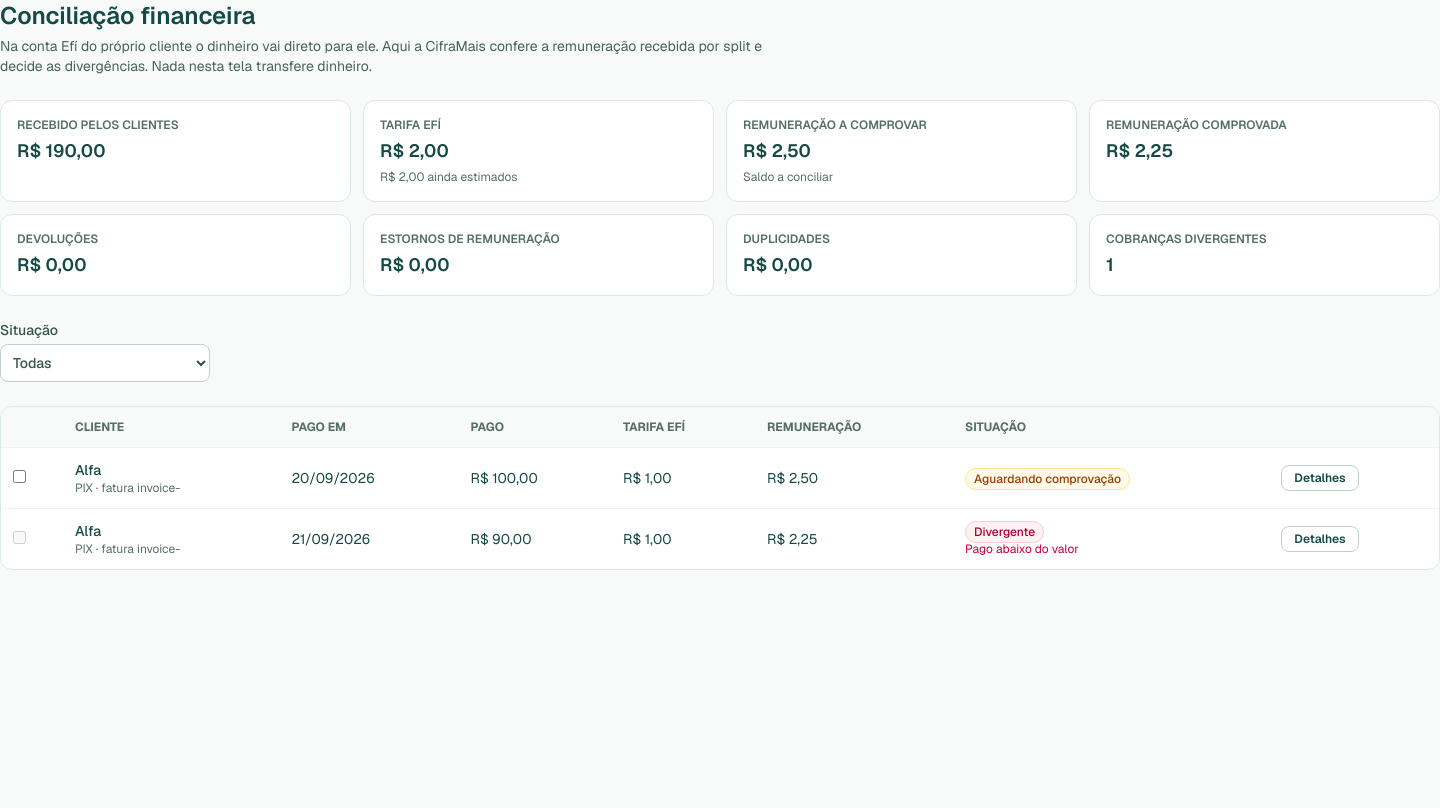
Test case: decides a divergence with the fields that decision requires
Click the button "Detalhes" in the row of "21/09/2026" at (1320, 539), box [1281,526,1359,552]
(page scrolled)
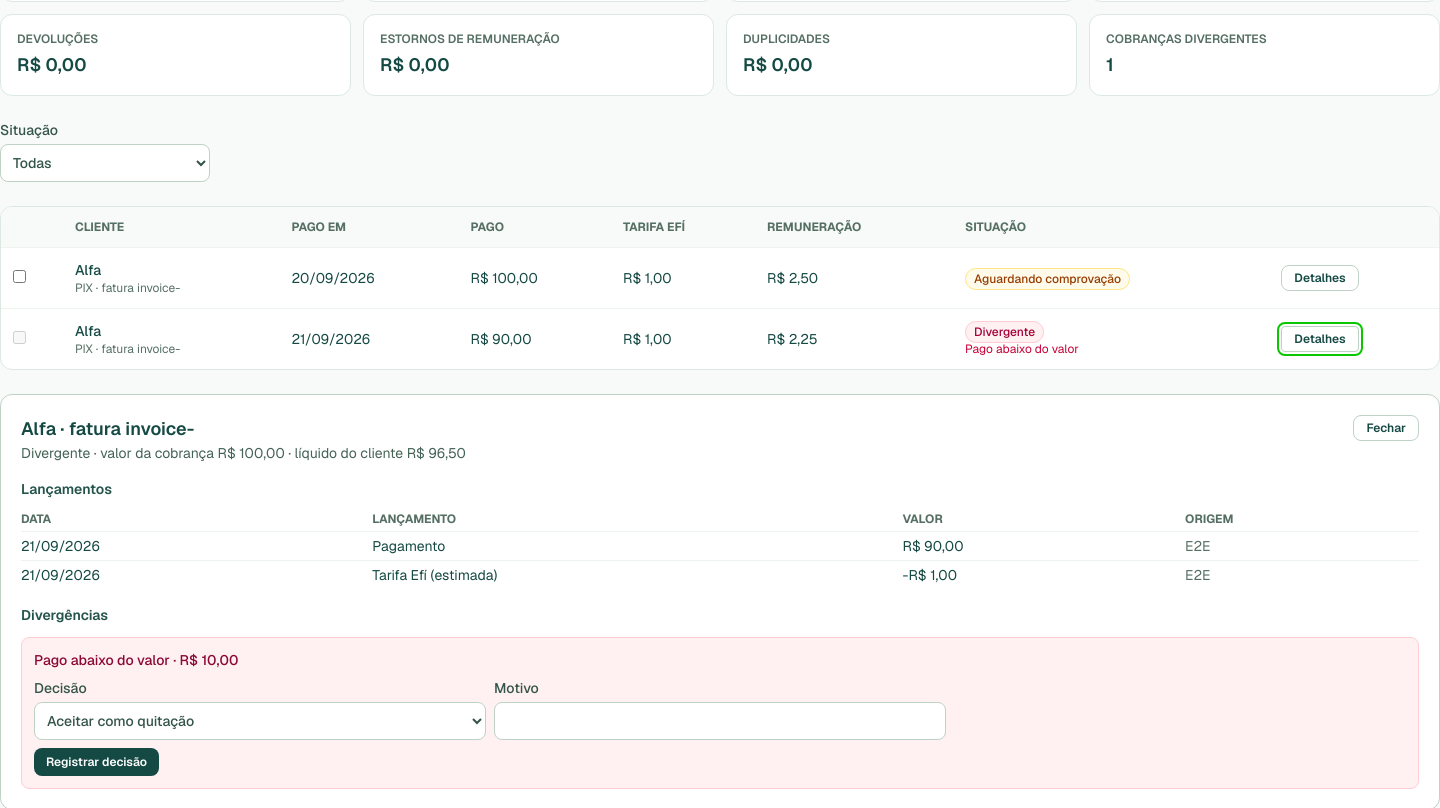
Select "Gerar fatura complementar do saldo" in the dropdown labelled "Decisão" at (260, 721), box [34,702,486,740]
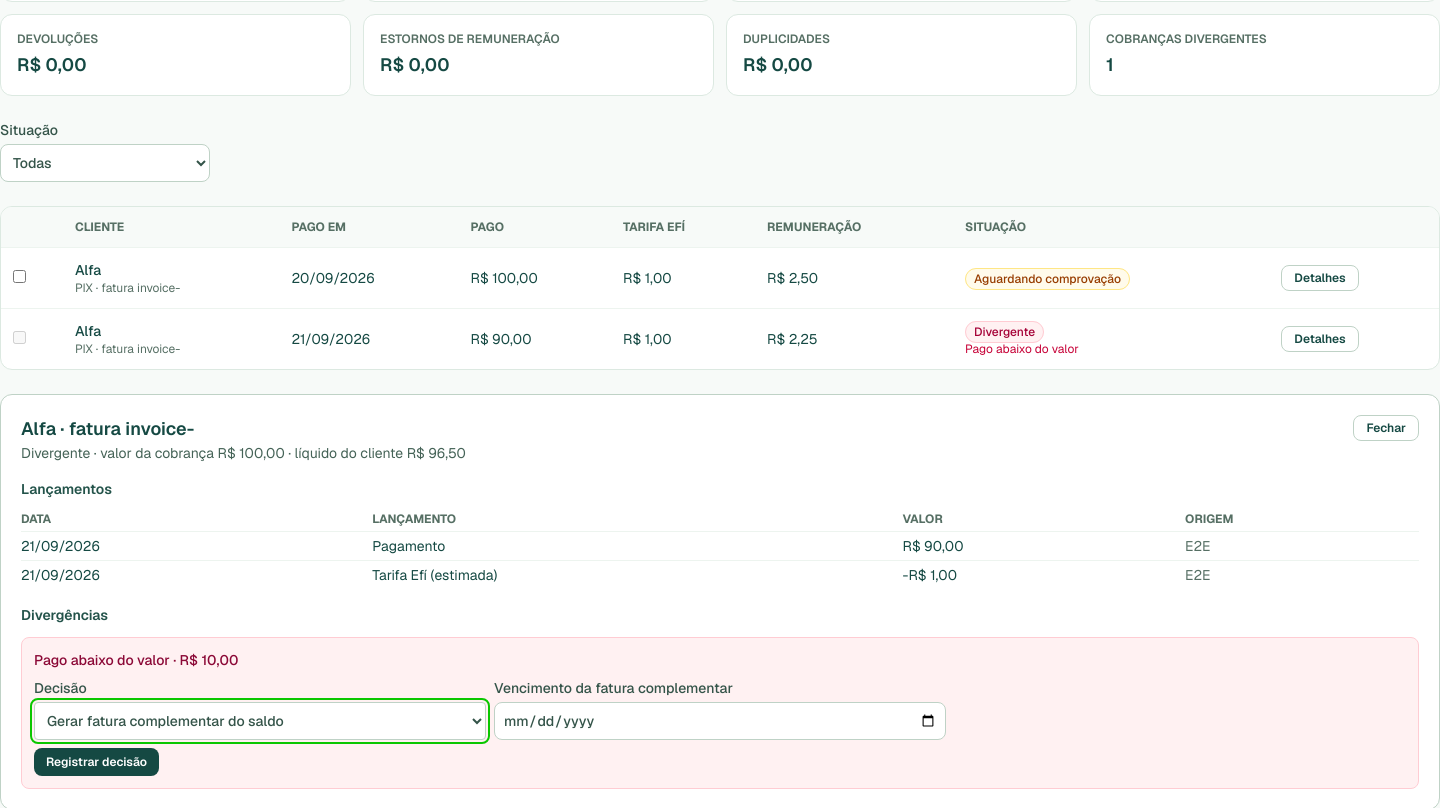
Check: the label labelled "Motivo" is gone
Type "2026-10-10" into the date field labelled "Vencimento da fatura complementar" at (720, 721), box [494,702,946,740]
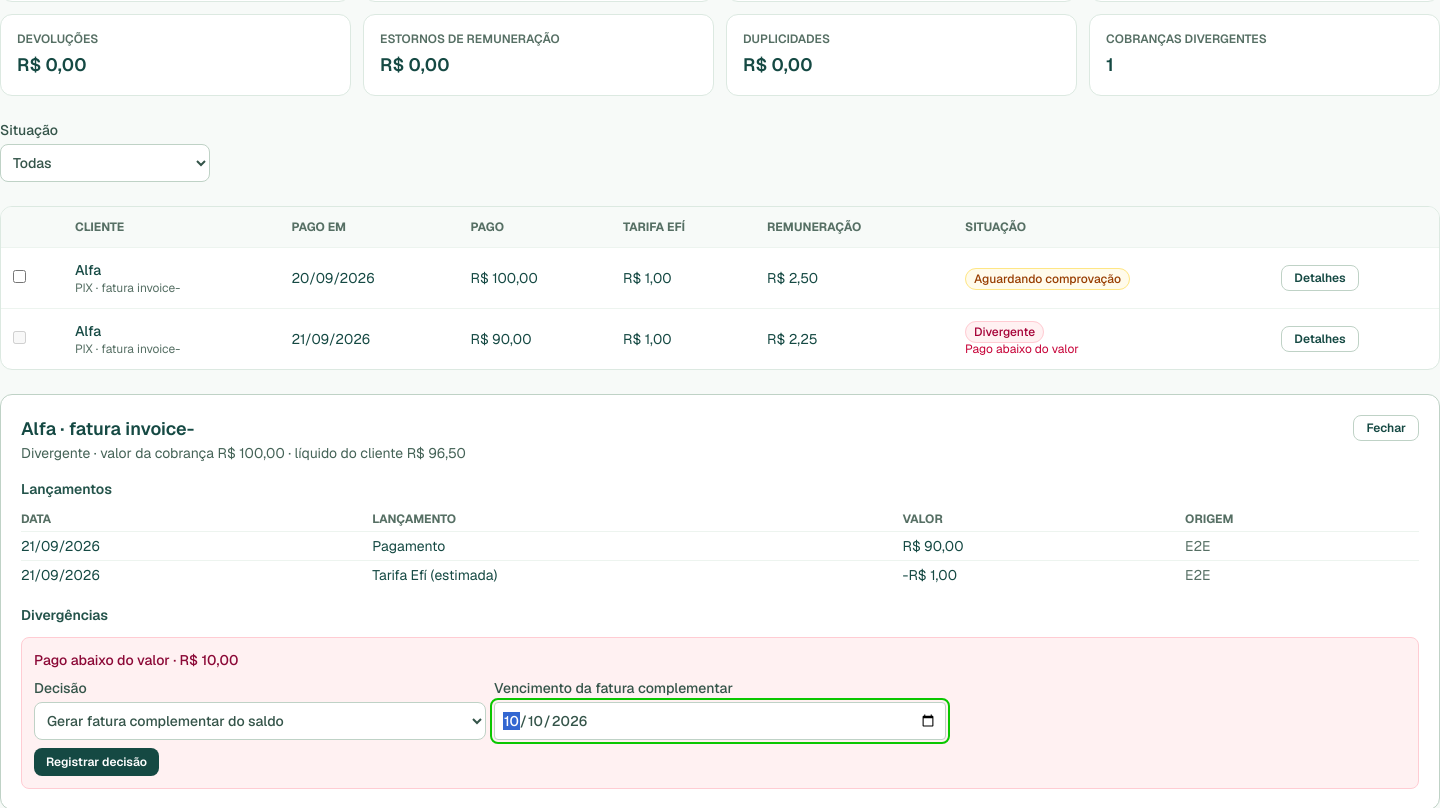
Click the button "Registrar decisão" at (97, 762), box [34,748,159,776]
(page scrolled)
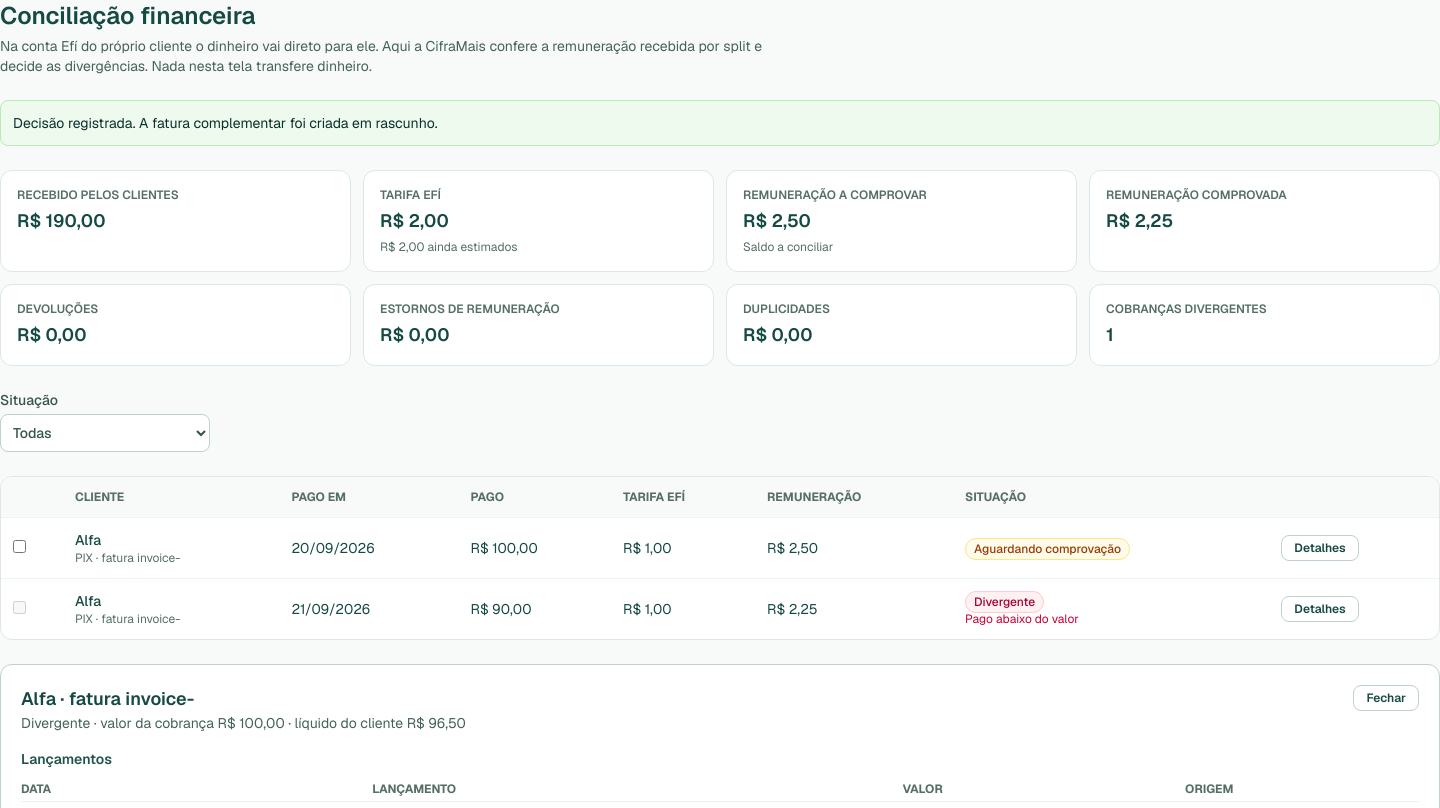
Check: the message shows "fatura complementar", box [13,114,438,132]
